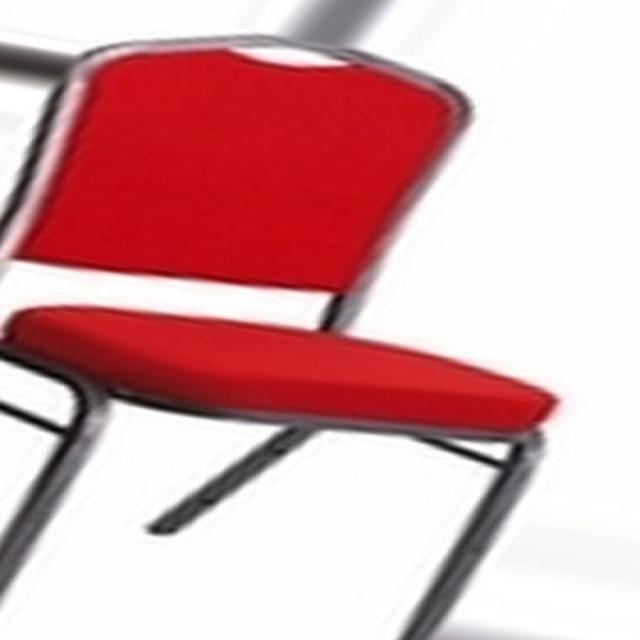chair: (5, 29, 561, 640)
